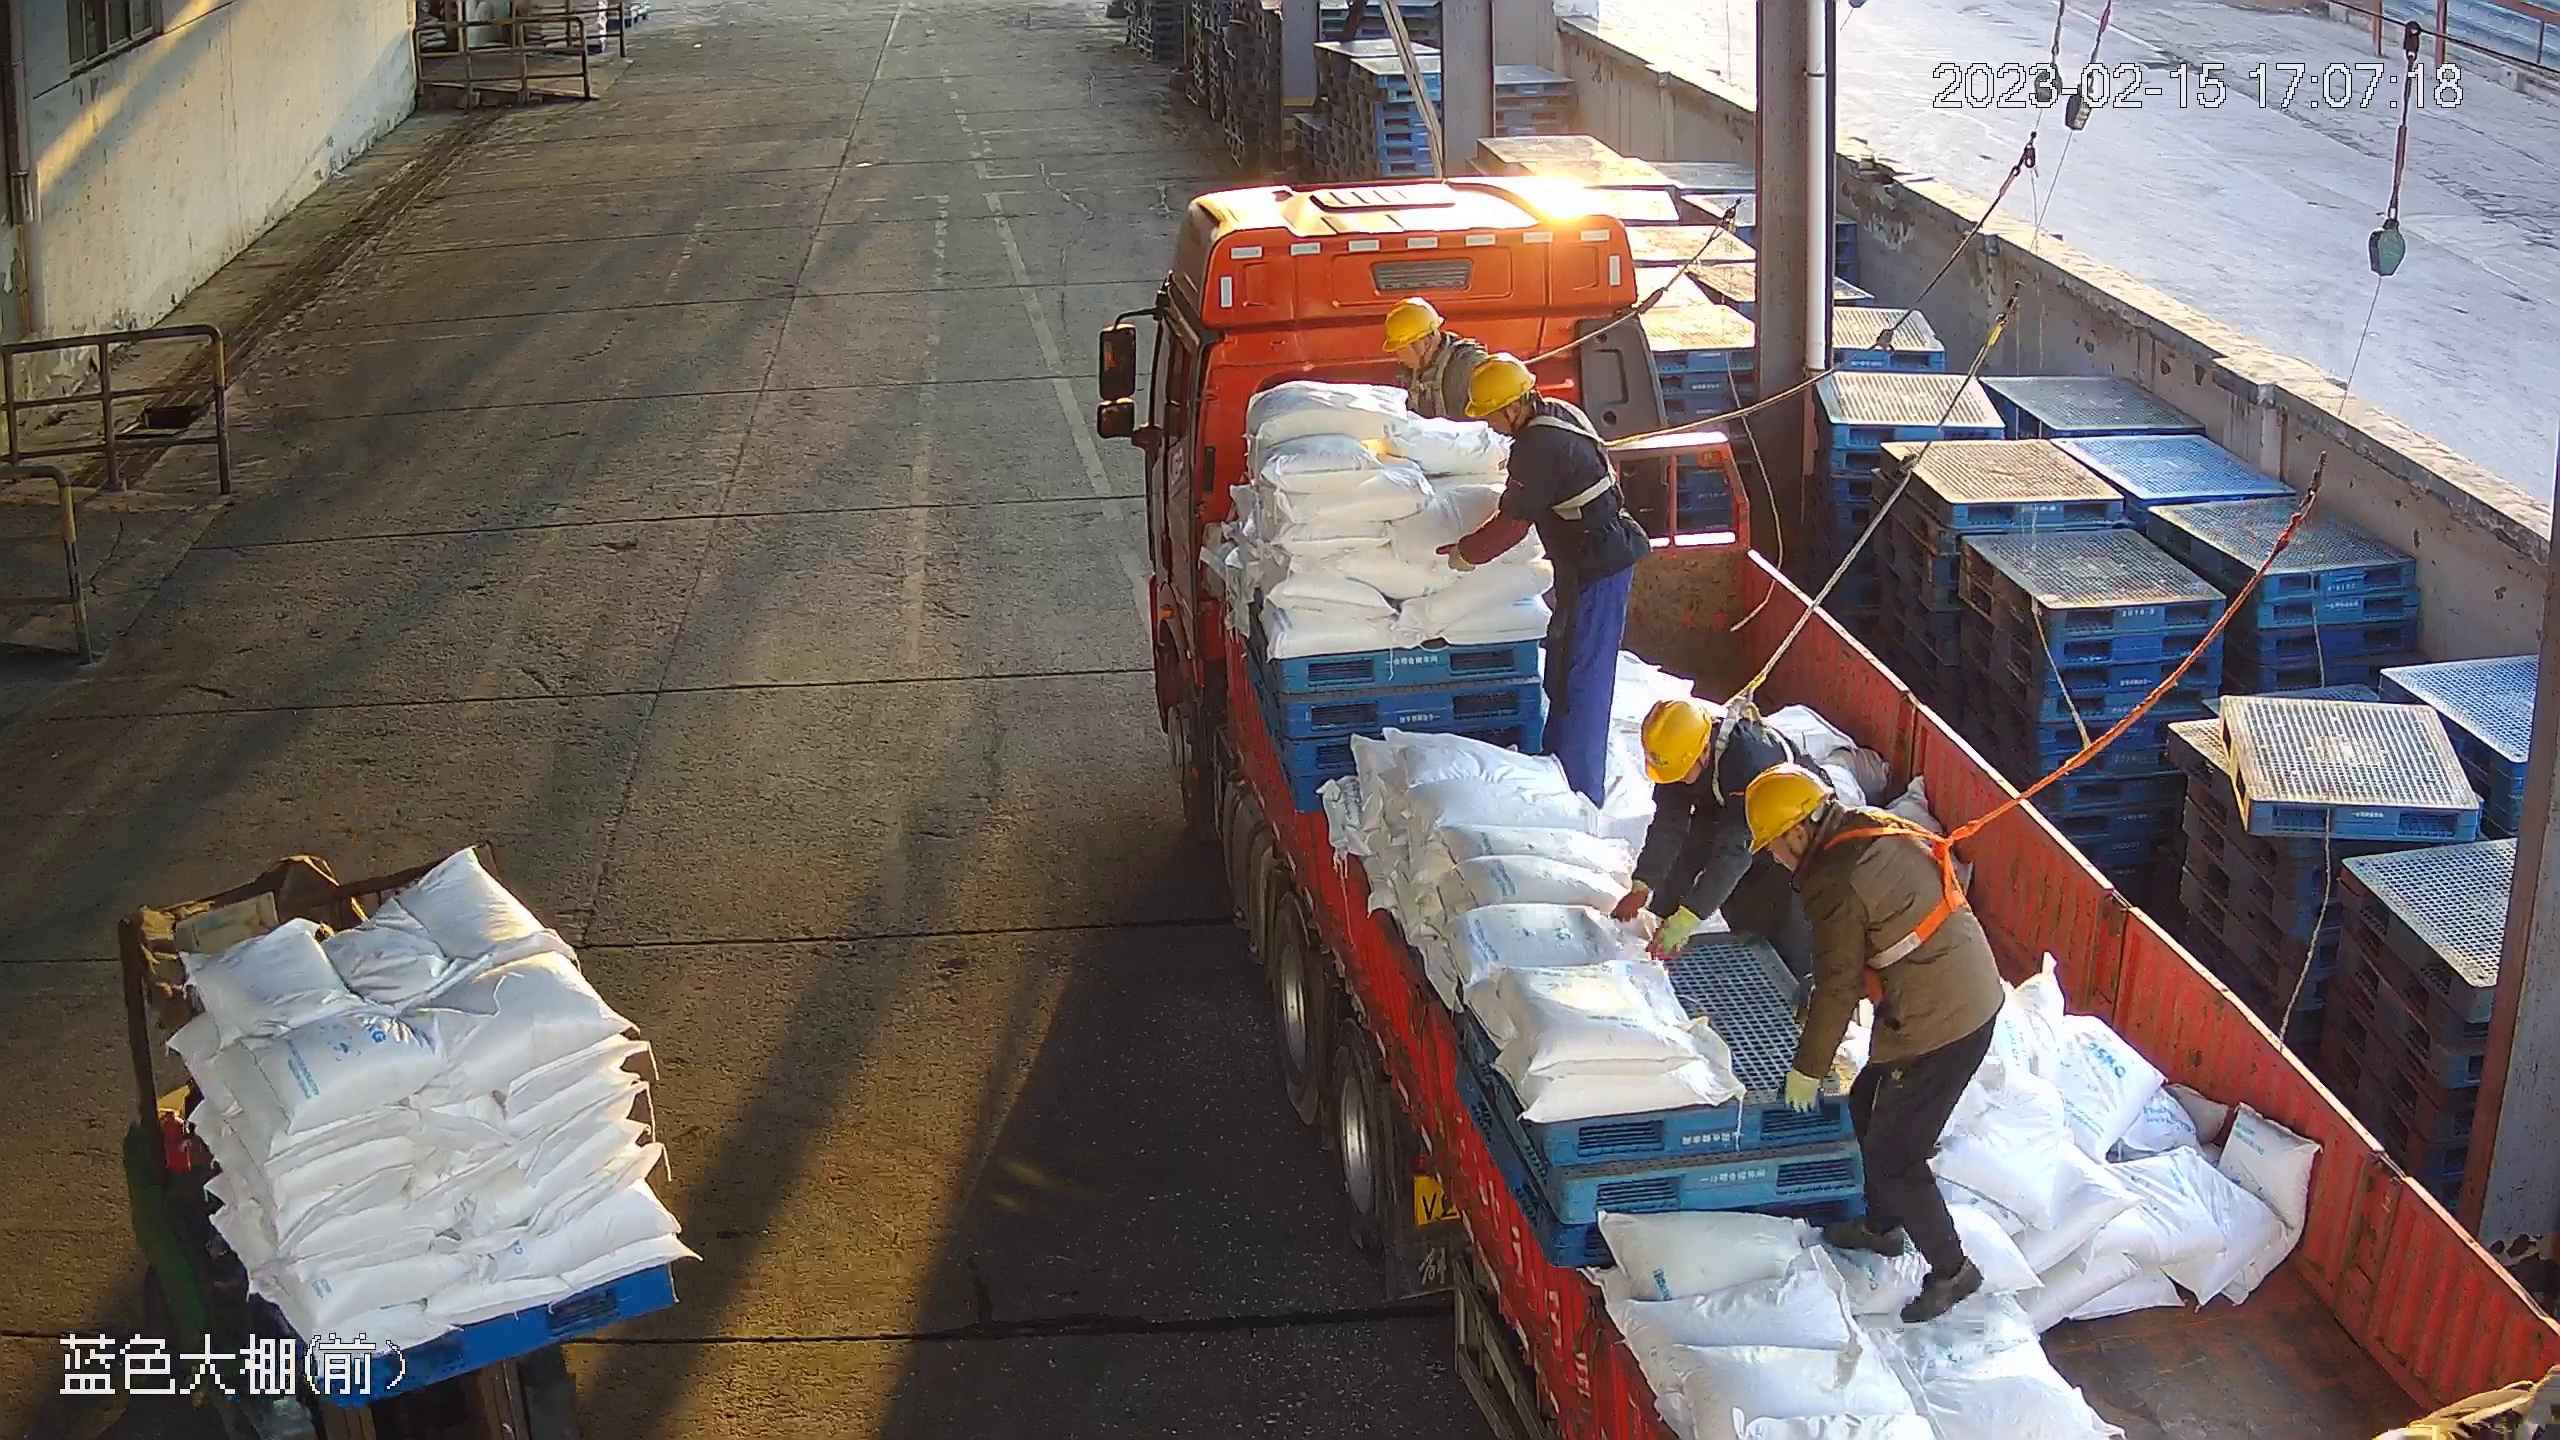belt: (1833, 788, 1976, 970), (1535, 391, 1652, 516), (1706, 666, 1800, 806), (1396, 364, 1465, 420)
head: (1746, 769, 1916, 918), (1457, 355, 1598, 483), (1639, 696, 1769, 806), (1381, 295, 1484, 415)
helmet: (1746, 766, 1832, 856), (1640, 696, 1713, 789), (1464, 354, 1535, 417), (1382, 300, 1445, 355)
people: (1745, 767, 2006, 1330), (1435, 350, 1651, 820), (1612, 700, 1835, 990)
truck: (1100, 174, 2560, 1440)
